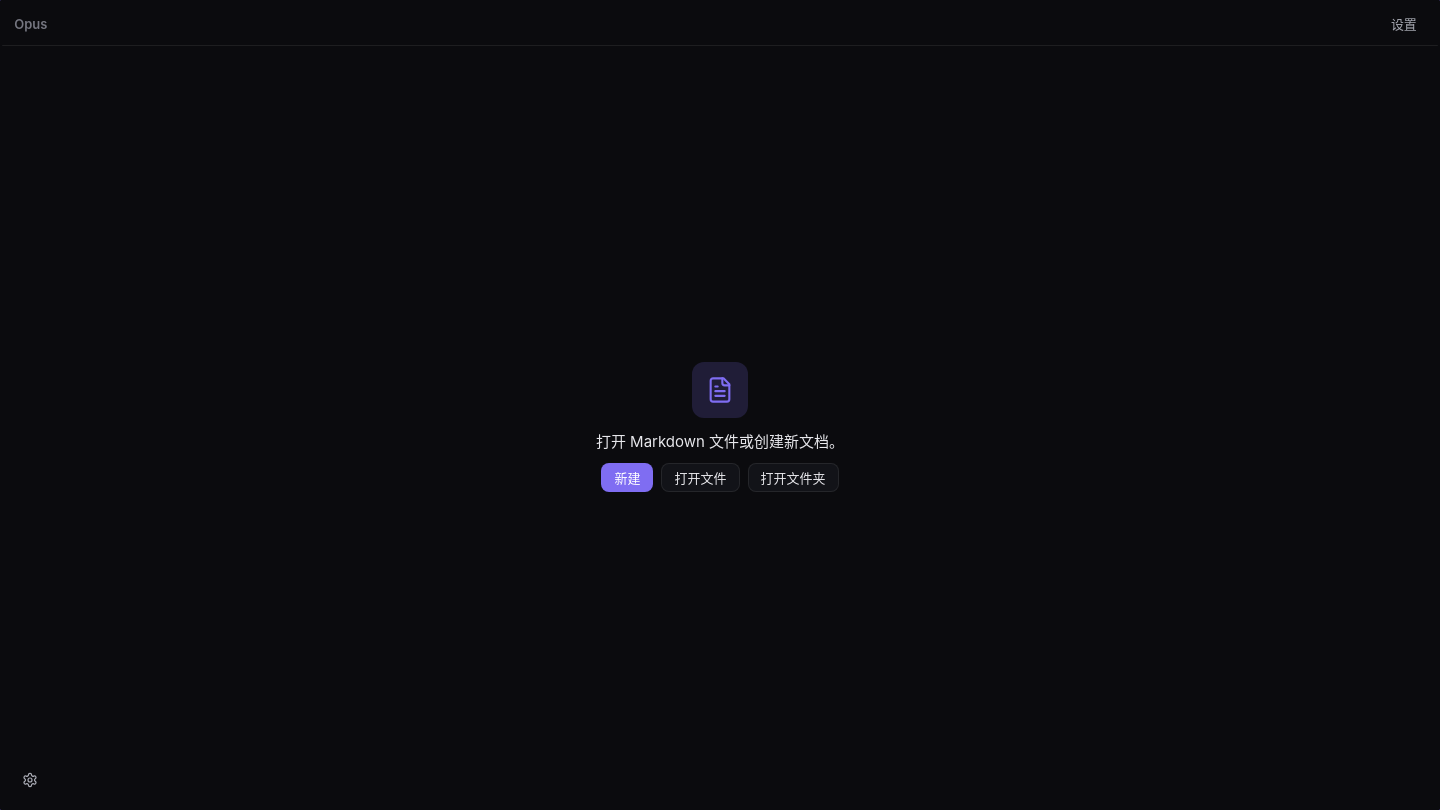
Test: settings: theme and editor preferences › snaps an invalid draft back to the committed value on blur
Click the button "设置": coordinates (1404, 24) [1382,9,1426,38]
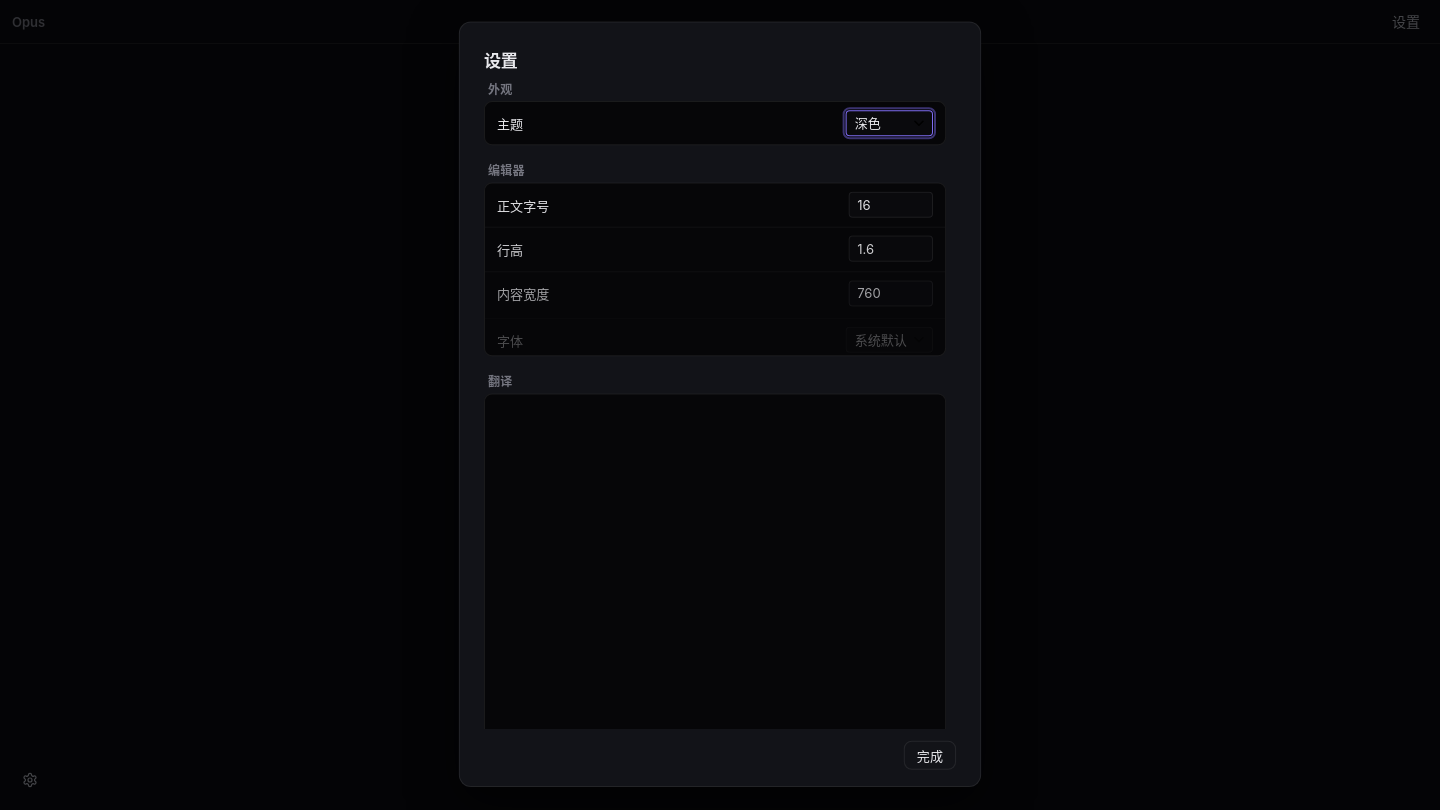
Clear the number field labelled "正文字号": coordinates (891, 205) [848,192,933,218]
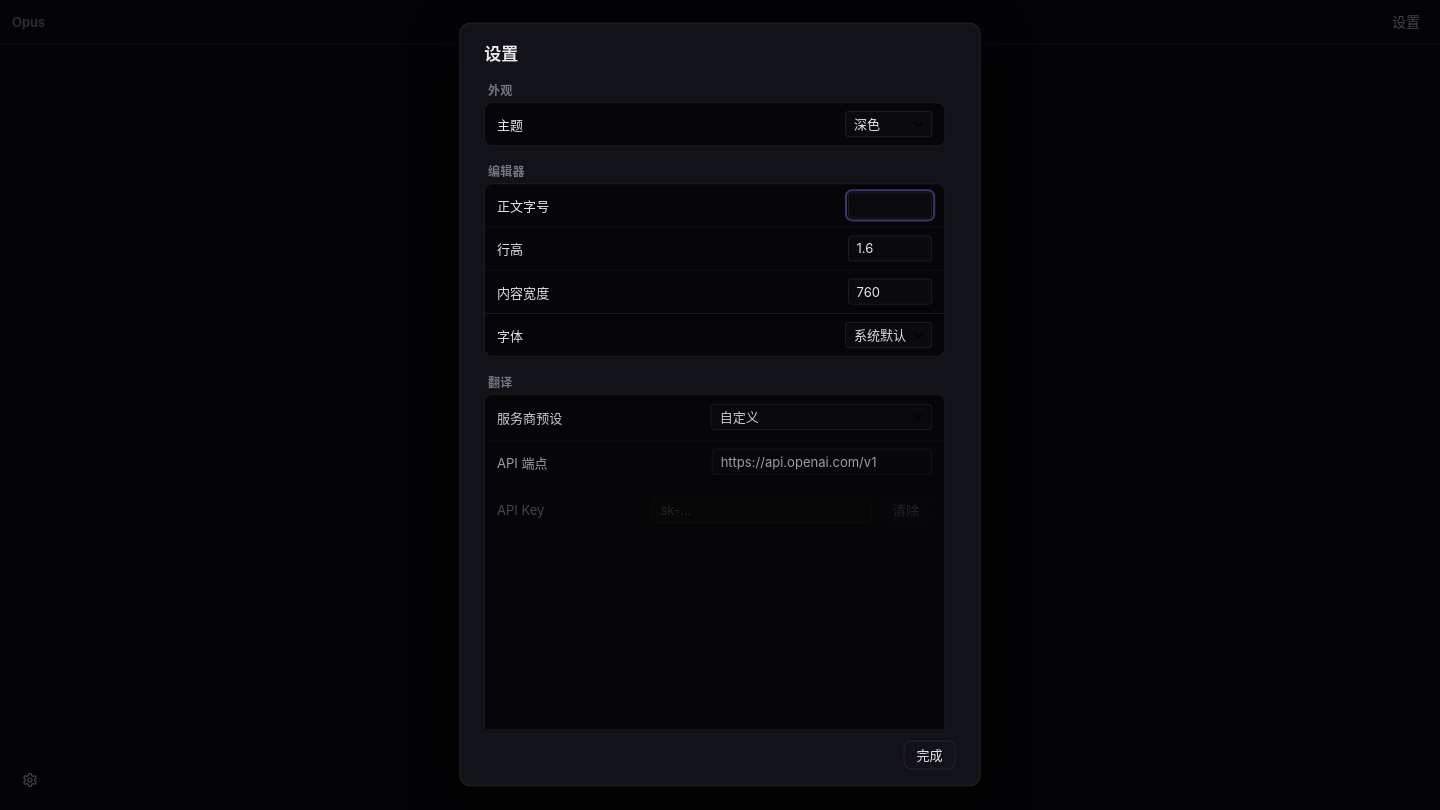
Leave the number field labelled "正文字号", box [848,192,932,218]
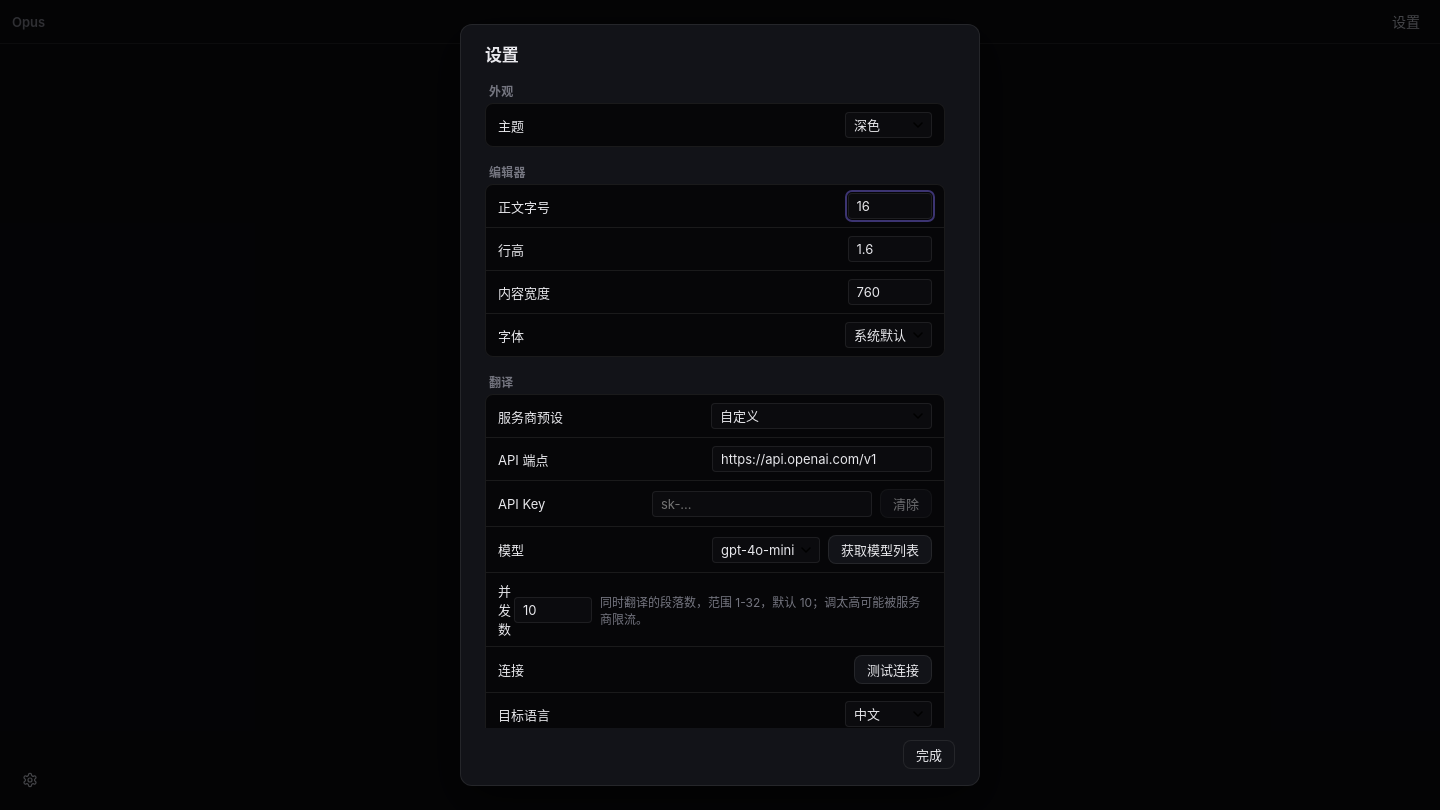
Expected: the number field labelled "正文字号" holds "16", [848,193,932,219]
